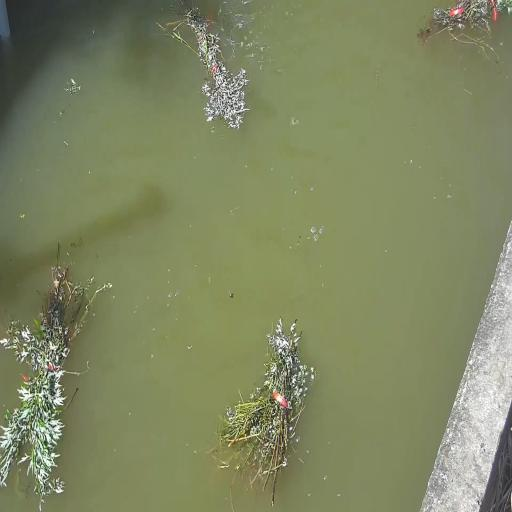twig: (1, 244, 111, 508), (212, 316, 316, 508), (158, 0, 252, 130), (425, 2, 506, 61)
